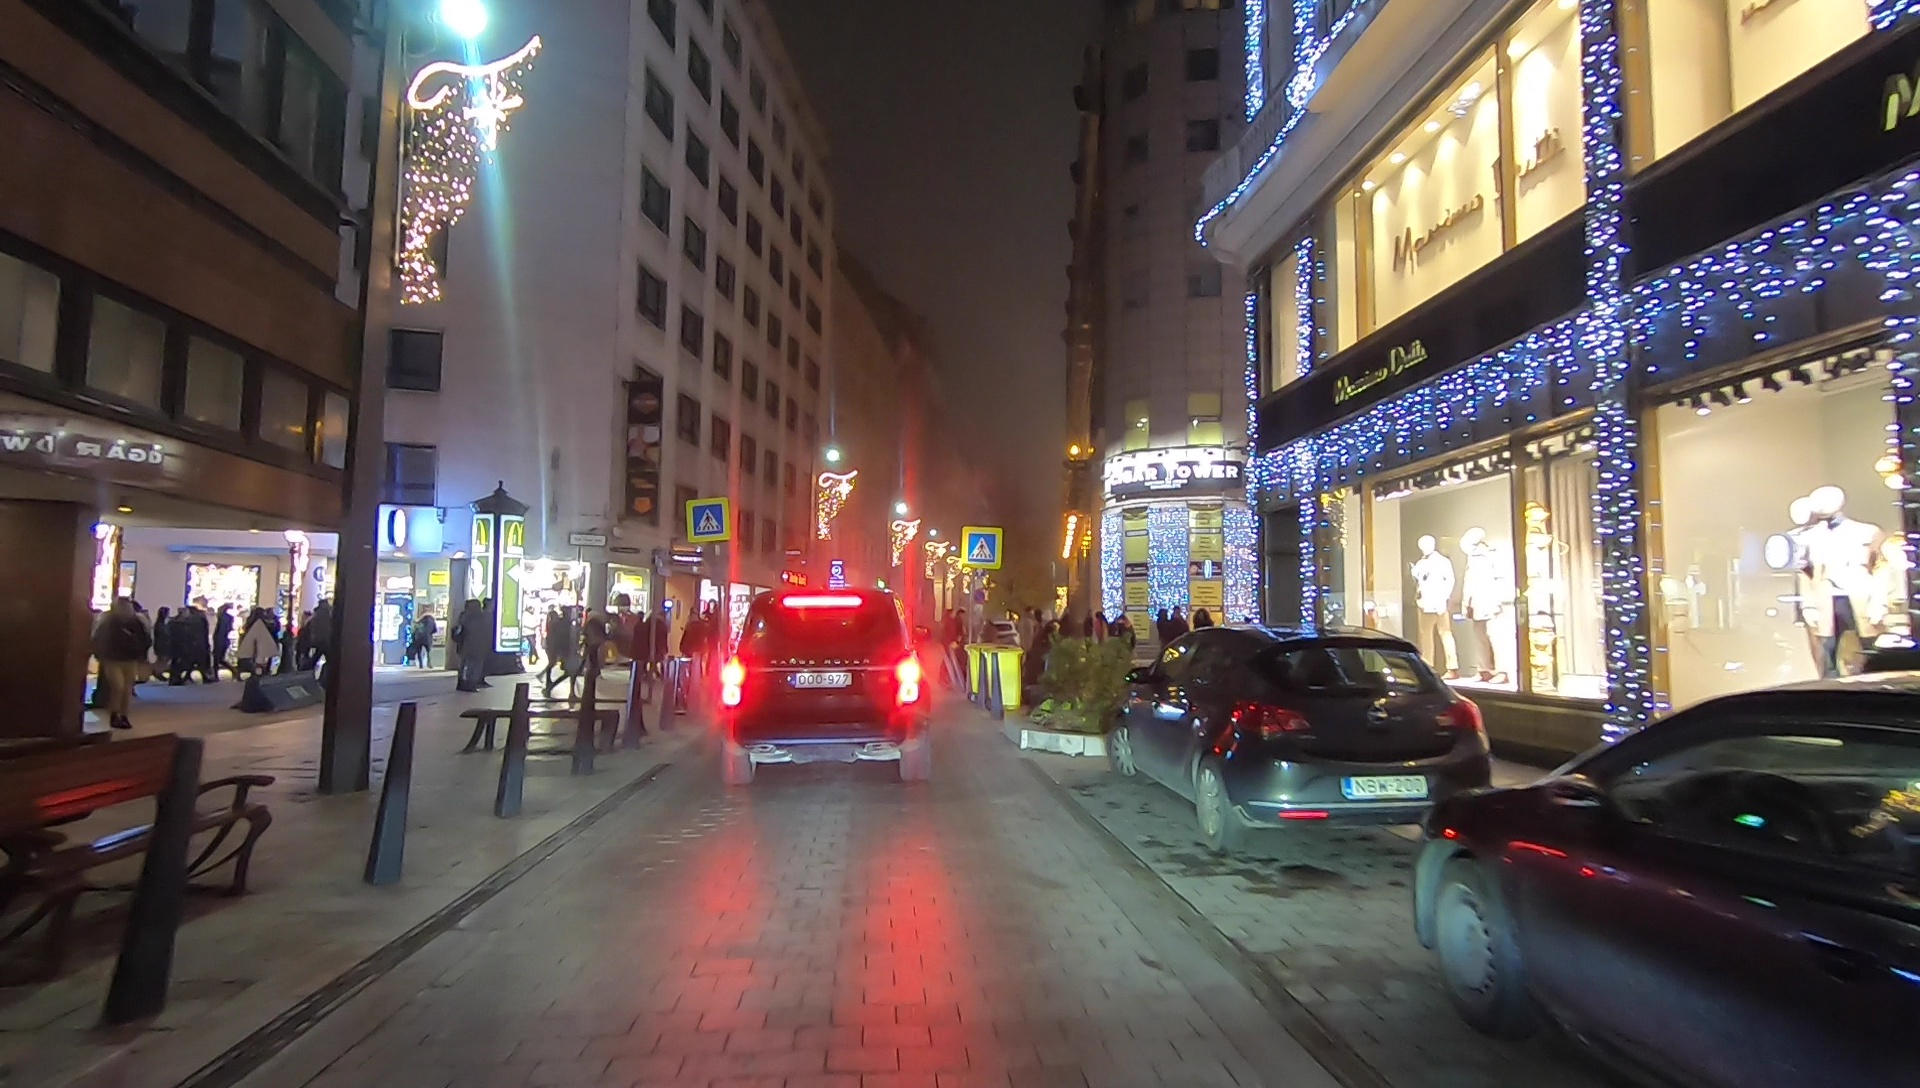person: (95, 599, 145, 732), (455, 600, 481, 694), (556, 610, 582, 704), (583, 612, 608, 679), (480, 596, 496, 692)
